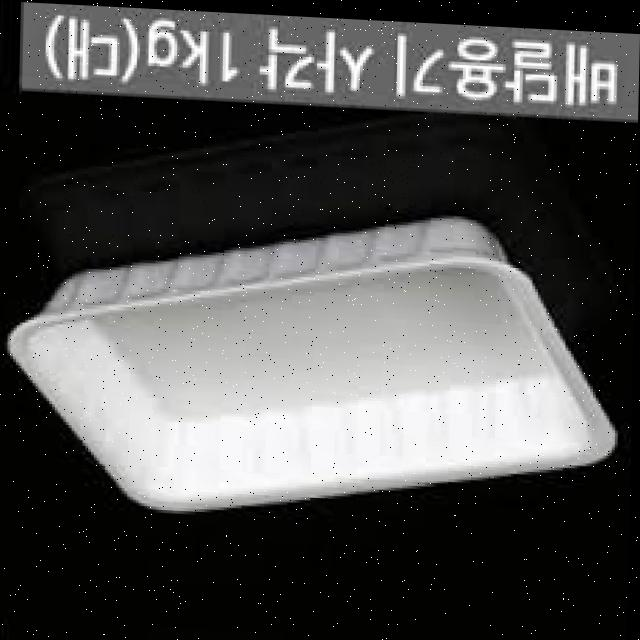disposable: (0, 177, 621, 533)
